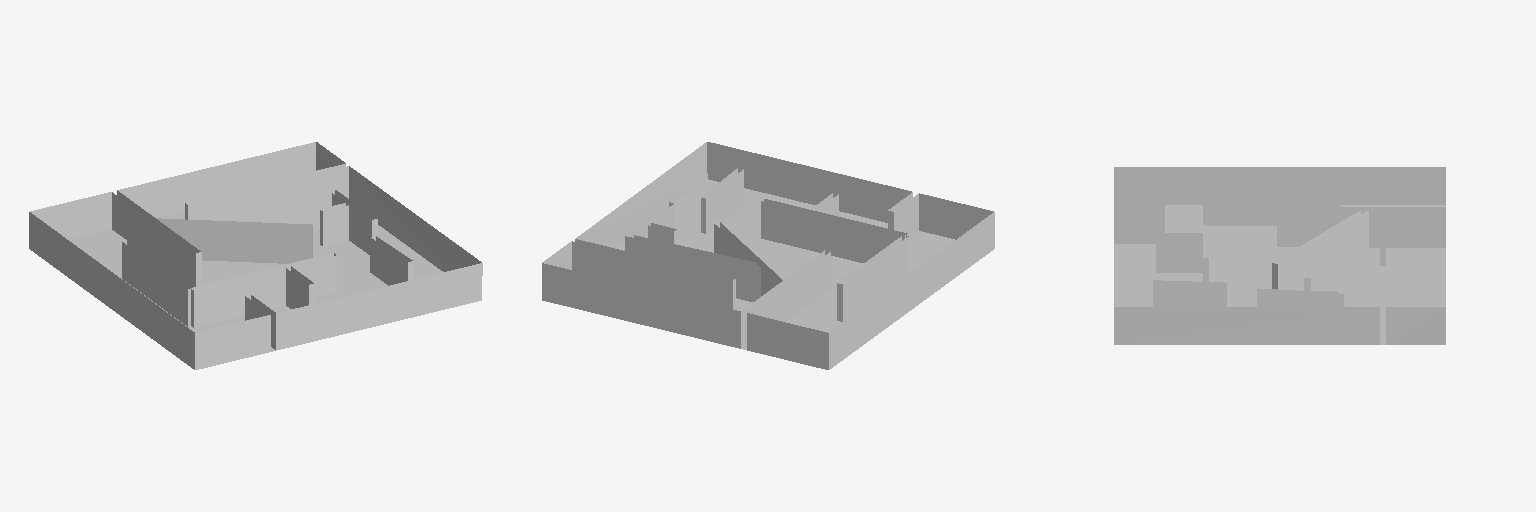
File: maze.obj
3 views of the same model, side by side, from view 1: azimuth 30°, elevation 25°; view 2: azimuth 150°, elevation 25°; view 3: azimuth 270°, elevation 25° (orthographic).
Visible parts, largest first — view 1: unityexport, Plane, unityexport.001; view 2: unityexport, Plane, unityexport.001; view 3: unityexport, Plane, unityexport.001.
Part boxes in pixels (x1,y1,x2,y2): unityexport: (29,142,482,369); Plane: (69,211,442,351); unityexport.001: (156,189,334,232); unityexport: (542,142,994,369); Plane: (558,179,954,356); unityexport.001: (625,224,778,301); unityexport: (1114,167,1445,344); Plane: (1114,205,1445,344); unityexport.001: (1278,210,1368,289).
Bounding box in the file's own units: 20.03 × 2.5 × 20.01.